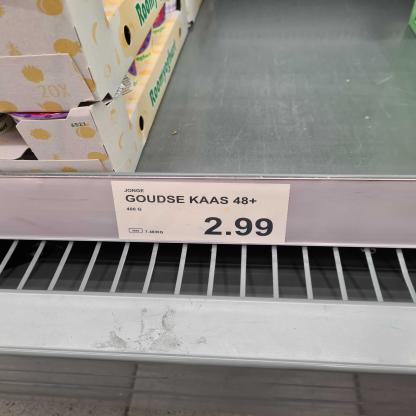prtg: (112, 182, 292, 245)
